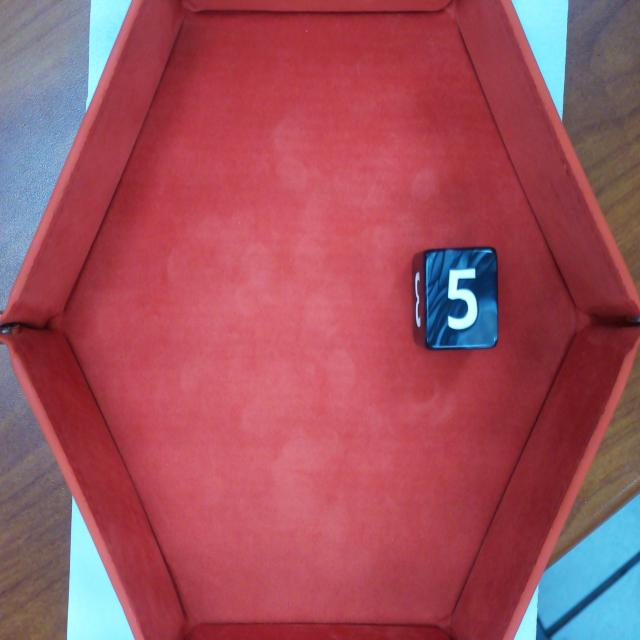dice: (427, 246, 501, 348)
